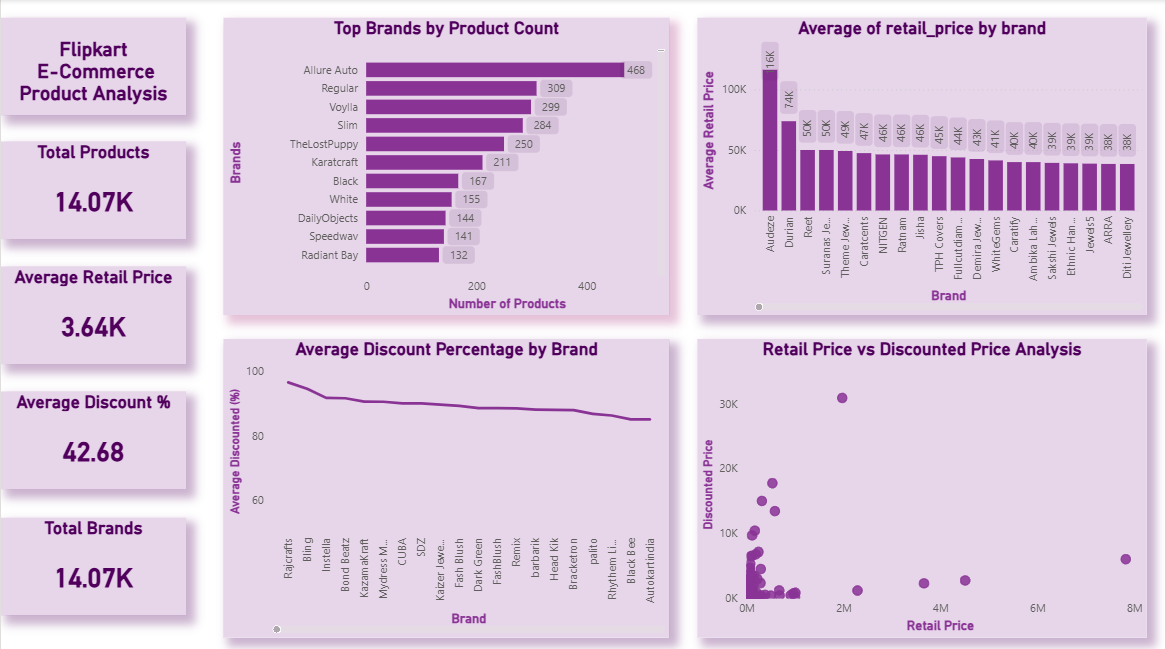

What the dashboard file says about the page in this screenshot:
{"tool":"powerbi","page":{"name":" Flipkart  E-Commerce Product Analysis Dashboard","canvas":[1280,720],"ordinal":0},"visuals":[{"type":"textbox","title":"Flipkart E-Commerce Product Analysis","box":[0,20.6,203.1,107],"z":0},{"type":"card","title":"Total Products","fields":{"Values":["CountNonNull(flipkart_cleaned.product_name)"]},"box":[0,156.4,203.1,107],"z":1000},{"type":"card","title":"Average Retail Price","fields":{"Values":["Avg(flipkart_cleaned.retail_price)"]},"box":[0,293.7,203.1,107],"z":2000},{"type":"card","title":"Average Discount %","fields":{"Values":["Avg(flipkart_cleaned.discounted_percent)"]},"box":[0,430.9,203.1,107],"z":3000},{"type":"card","title":"Total Brands","fields":{"Values":["CountNonNull(flipkart_cleaned.brand)"]},"box":[0,569.5,203.1,107],"z":4000},{"type":"clusteredBarChart","title":"Top Brands by Product Count","fields":{"Category":["flipkart_cleaned.brand"],"Y":["CountNonNull(flipkart_cleaned.brand)"]},"box":[244.3,20.6,489.9,326.6],"z":5000},{"type":"clusteredColumnChart","fields":{"Category":["flipkart_cleaned.brand"],"Y":["Avg(flipkart_cleaned.retail_price)"]},"box":[764.3,20.6,494,326.6],"z":6000},{"type":"lineChart","title":"Average Discount Percentage by Brand","fields":{"Category":["flipkart_cleaned.brand"],"Y":["Avg(flipkart_cleaned.discounted_percent)"]},"box":[244.3,373.2,489.9,328],"z":7000},{"type":"scatterChart","title":"Retail Price vs Discounted Price Analysis","fields":{"X":["Sum(flipkart_cleaned.retail_price)"],"Y":["Sum(flipkart_cleaned.discounted_percent)"],"Category":["flipkart_cleaned.brand"]},"box":[764.3,373.2,494,328],"z":8000}]}

Visuals, with their boxes in screenshot pixels (x1, y1, x2, y2), scaled from the page's 1280x720 canvas onto the 1165x649 screenshot:
"Flipkart E-Commerce Product Analysis" textbox: <box>0,19,185,115</box>
"Total Products" card: <box>0,141,185,237</box>
"Average Retail Price" card: <box>0,265,185,361</box>
"Average Discount %" card: <box>0,388,185,485</box>
"Total Brands" card: <box>0,513,185,610</box>
"Top Brands by Product Count" clusteredBarChart: <box>222,19,668,313</box>
clusteredColumnChart - flipkart_cleaned.brand x Avg(flipkart_cleaned.retail_price): <box>696,19,1145,313</box>
"Average Discount Percentage by Brand" lineChart: <box>222,336,668,632</box>
"Retail Price vs Discounted Price Analysis" scatterChart: <box>696,336,1145,632</box>
